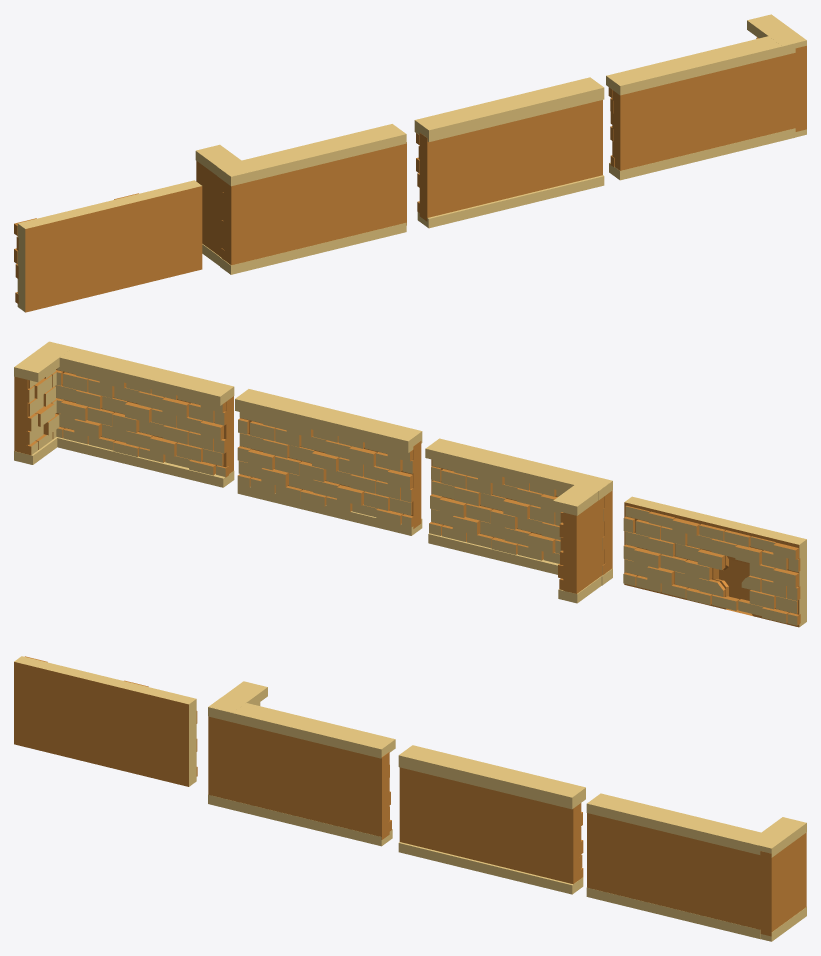
Rendered from murs_set_03.fbx.
3 renders of one model, top to bottom at view 1: azimuth 30°, elevation 25°; view 2: azimuth 150°, elevation 25°; view 3: azimuth 330°, elevation 25°, orthographic.
Parts seen in each view (by area): view 1: murs_coin_jaune_petant_02, murs_coin_jaune_petant_01, murs_simple_jaune_petant, murs_brise_jaune_petant; view 2: murs_coin_jaune_petant_01, murs_coin_jaune_petant_02, murs_simple_jaune_petant, murs_brise_jaune_petant; view 3: murs_coin_jaune_petant_01, murs_coin_jaune_petant_02, murs_simple_jaune_petant, murs_brise_jaune_petant.
Part boxes in pixels (x1,y1,x2,y2): murs_coin_jaune_petant_02: (195, 124, 406, 274); murs_coin_jaune_petant_01: (606, 14, 806, 180); murs_simple_jaune_petant: (414, 77, 604, 228); murs_brise_jaune_petant: (14, 180, 202, 312); murs_coin_jaune_petant_01: (14, 341, 234, 487); murs_coin_jaune_petant_02: (425, 438, 612, 603); murs_simple_jaune_petant: (235, 389, 422, 535); murs_brise_jaune_petant: (623, 496, 806, 627); murs_coin_jaune_petant_01: (586, 793, 806, 941); murs_coin_jaune_petant_02: (208, 681, 395, 846); murs_simple_jaune_petant: (398, 745, 585, 894); murs_brise_jaune_petant: (14, 656, 197, 786).
Size of the model in its own units: 127 by 15.48 by 11.04.
Materials: 1 (1 with a texture image).
